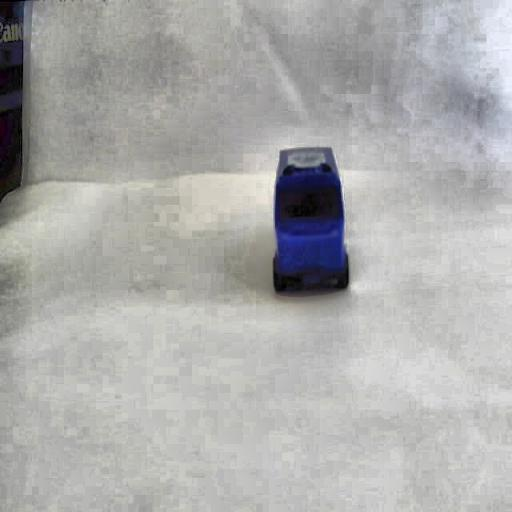police car: (269, 138, 355, 307)
